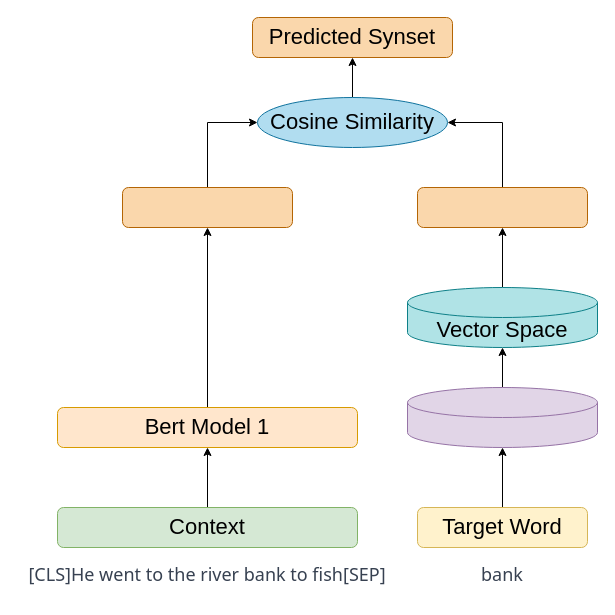
Some shapes in this 615 by 615 pixel diagram are drawn without their labels. Here are the shapes that lost their labels. From the top down, the centre of each, then its label:
At (207,207): "Predict Vector".
At (502,207): "Candidates".
At (502,417): "WordNet".
